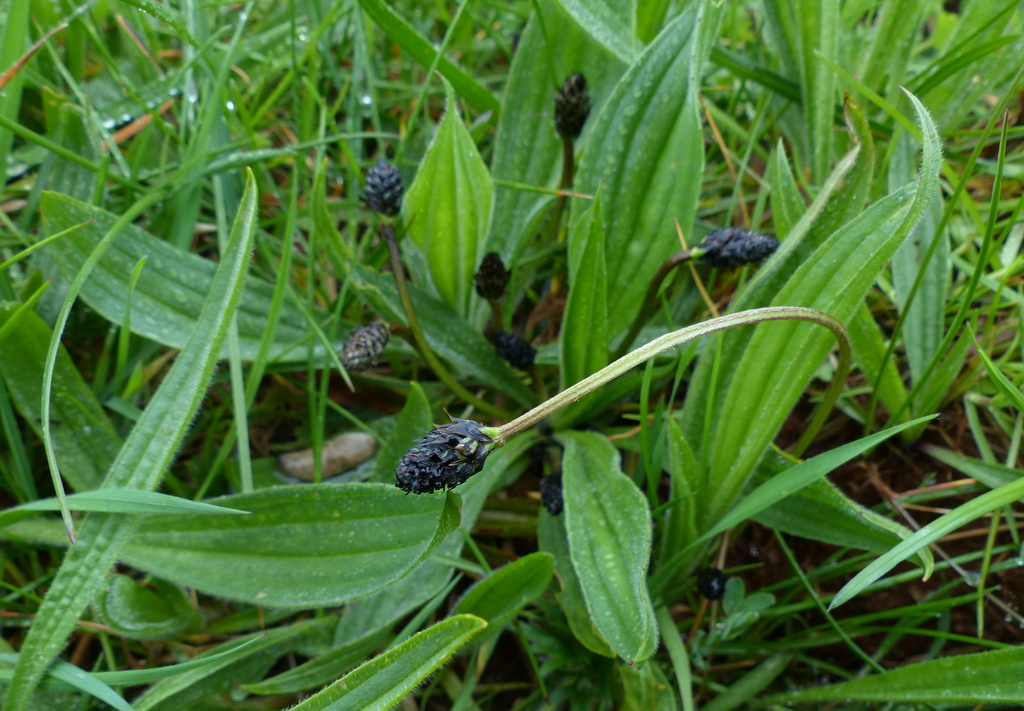buckhorn plantain: (225, 8, 777, 652)
